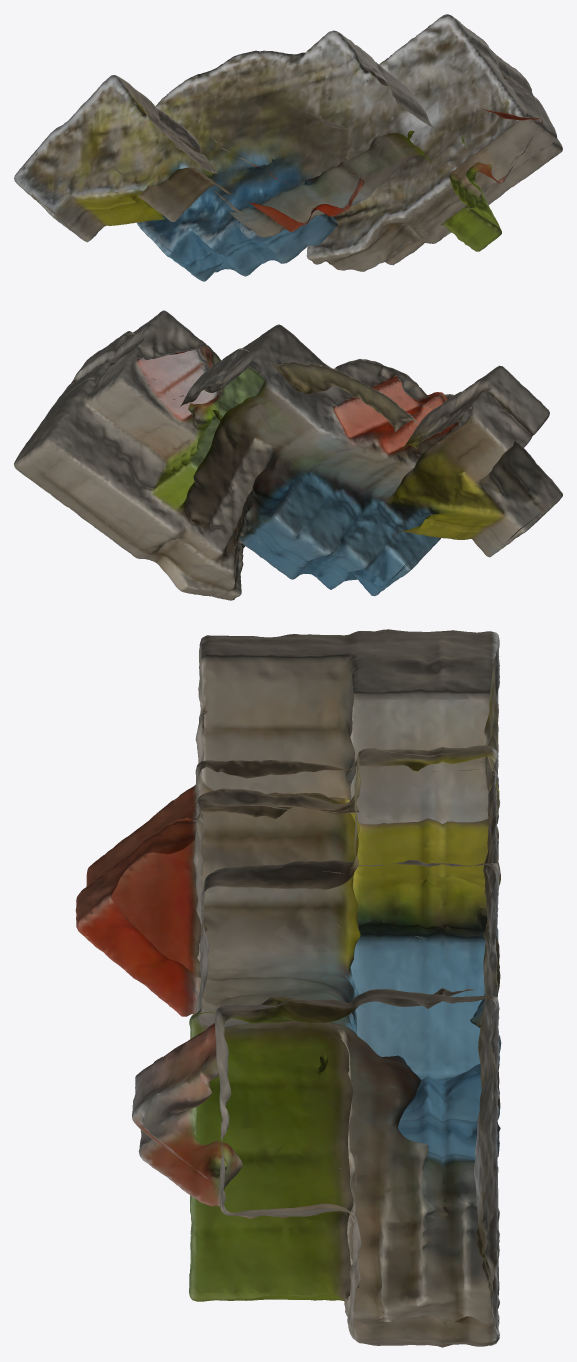
Rendered from blocks.glb.
The picture shows the model from 3 angles, top to bottom: view 1: azimuth 30°, elevation 25°; view 2: azimuth 150°, elevation 25°; view 3: azimuth 270°, elevation 25°; orthographic projection. The views are drawn at different scales.
Bounding box in the file's own units: 1 × 0.4398 × 0.3576.
